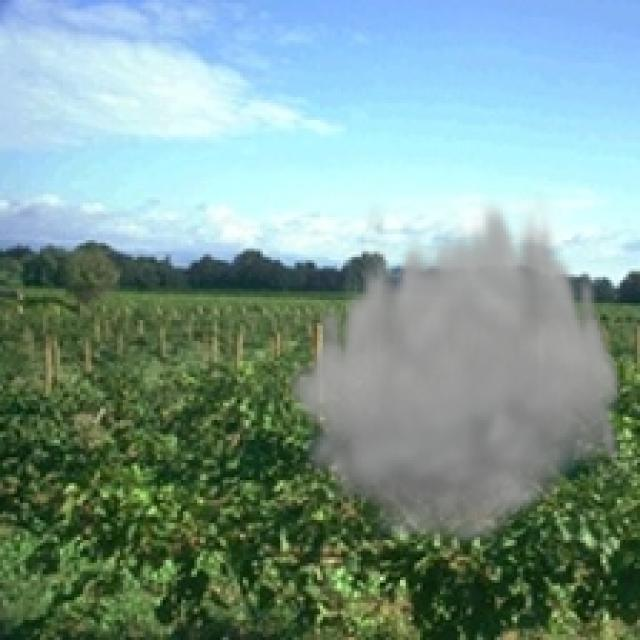smoke: (283, 192, 626, 552)
